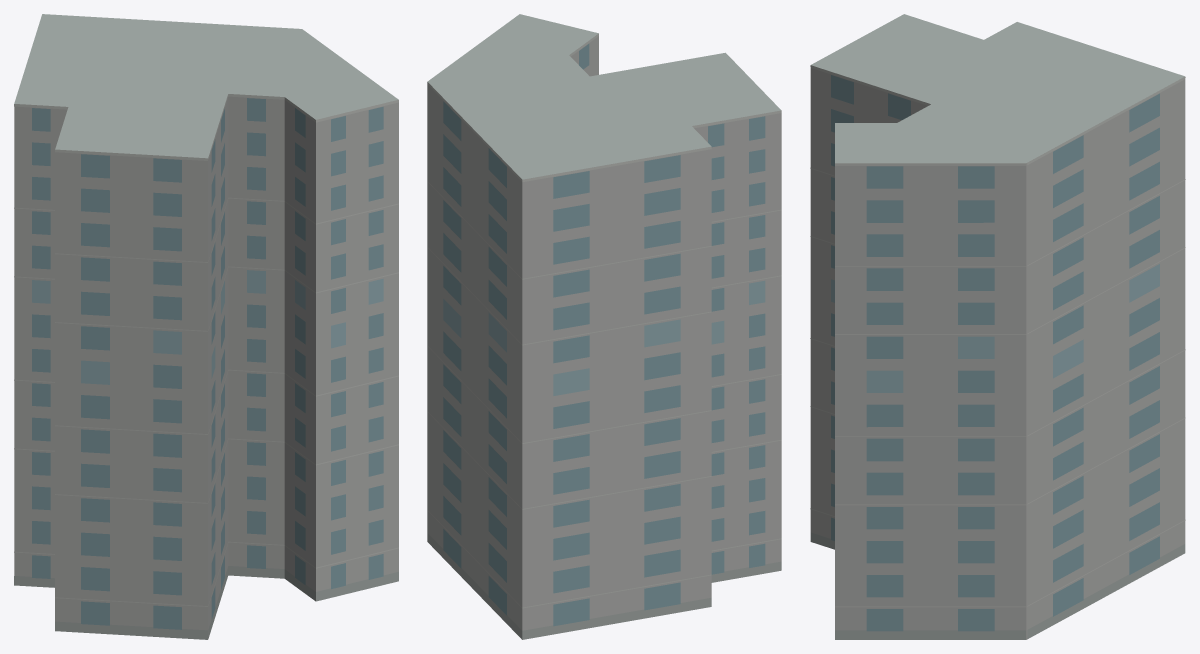
The model's file is survey-upis-32590986.glb.
The picture shows the model from 3 angles, left to right: view 1: azimuth 30°, elevation 25°; view 2: azimuth 150°, elevation 25°; view 3: azimuth 270°, elevation 25°; orthographic projection. The views are drawn at different scales.
Parts seen in each view (by area): view 1: survey-upis-32590986.tmp; view 2: survey-upis-32590986.tmp; view 3: survey-upis-32590986.tmp.
Boxes of the visible parts, x1=… form: survey-upis-32590986.tmp: x1=14, y1=14, x2=398, y2=639; survey-upis-32590986.tmp: x1=427, y1=14, x2=781, y2=639; survey-upis-32590986.tmp: x1=810, y1=14, x2=1185, y2=639.
Bounding box in the file's own units: 28.68 × 42.7 × 30.45.
